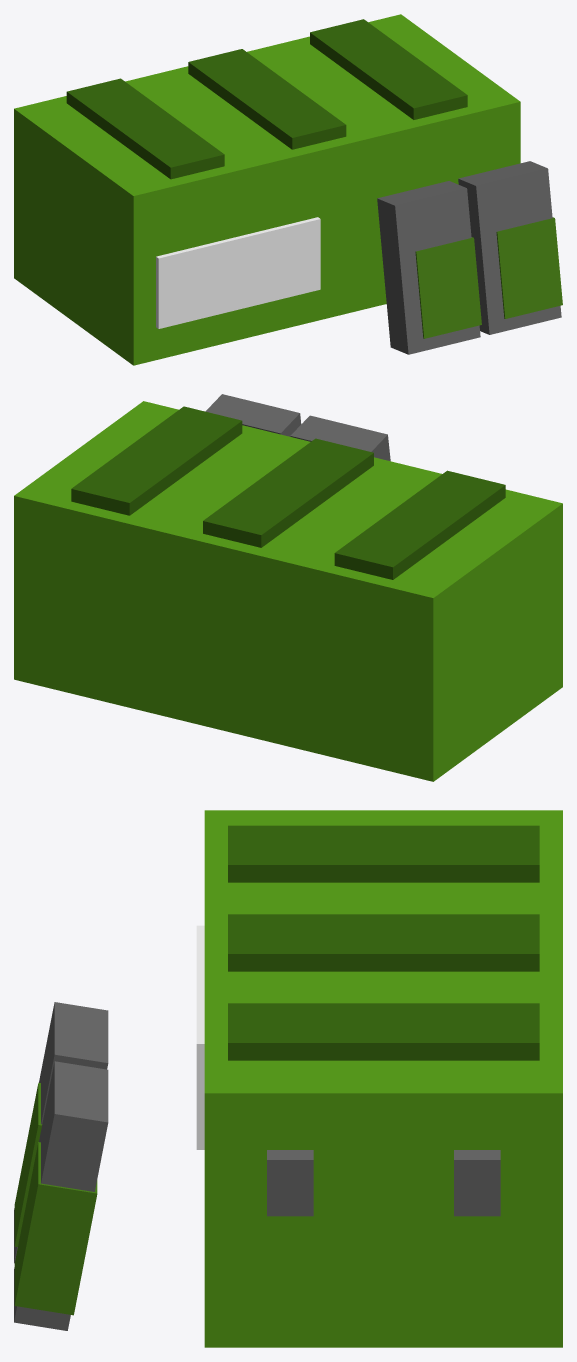
Rendered from ce_ammo_gae_chrifle_fmj_c.obj.
3 views of the same model, one above another, from view 1: azimuth 30°, elevation 25°; view 2: azimuth 150°, elevation 25°; view 3: azimuth 270°, elevation 25° (orthographic). The views are drawn at different scales.
Parts seen in each view (by area): view 1: ce_ammo_gae_chrifle_fmj_c_0, ce_ammo_gae_chrifle_fmj_c_4, ce_ammo_gae_chrifle_fmj_c_7, ce_ammo_gae_chrifle_fmj_c_9, ce_ammo_gae_chrifle_fmj_c_1, ce_ammo_gae_chrifle_fmj_c_2, ce_ammo_gae_chrifle_fmj_c_3, ce_ammo_gae_chrifle_fmj_c_8, ce_ammo_gae_chrifle_fmj_c_10; view 2: ce_ammo_gae_chrifle_fmj_c_0, ce_ammo_gae_chrifle_fmj_c_3, ce_ammo_gae_chrifle_fmj_c_1, ce_ammo_gae_chrifle_fmj_c_2, ce_ammo_gae_chrifle_fmj_c_7, ce_ammo_gae_chrifle_fmj_c_9; view 3: ce_ammo_gae_chrifle_fmj_c_0, ce_ammo_gae_chrifle_fmj_c_1, ce_ammo_gae_chrifle_fmj_c_2, ce_ammo_gae_chrifle_fmj_c_3, ce_ammo_gae_chrifle_fmj_c_10, ce_ammo_gae_chrifle_fmj_c_9, ce_ammo_gae_chrifle_fmj_c_7, ce_ammo_gae_chrifle_fmj_c_5, ce_ammo_gae_chrifle_fmj_c_6, ce_ammo_gae_chrifle_fmj_c_4, ce_ammo_gae_chrifle_fmj_c_8.
Boxes of the visible parts, x1,y1,x2,y2 form: ce_ammo_gae_chrifle_fmj_c_0: (14, 14, 520, 365); ce_ammo_gae_chrifle_fmj_c_4: (156, 217, 320, 328); ce_ammo_gae_chrifle_fmj_c_7: (377, 181, 480, 354); ce_ammo_gae_chrifle_fmj_c_9: (458, 161, 561, 334); ce_ammo_gae_chrifle_fmj_c_1: (66, 78, 224, 179); ce_ammo_gae_chrifle_fmj_c_2: (188, 49, 346, 149); ce_ammo_gae_chrifle_fmj_c_3: (310, 19, 467, 119); ce_ammo_gae_chrifle_fmj_c_8: (415, 237, 481, 338); ce_ammo_gae_chrifle_fmj_c_10: (496, 217, 562, 318); ce_ammo_gae_chrifle_fmj_c_0: (14, 401, 562, 781); ce_ammo_gae_chrifle_fmj_c_3: (71, 406, 242, 515); ce_ammo_gae_chrifle_fmj_c_1: (334, 470, 505, 579); ce_ammo_gae_chrifle_fmj_c_2: (203, 438, 373, 547); ce_ammo_gae_chrifle_fmj_c_7: (290, 415, 390, 461); ce_ammo_gae_chrifle_fmj_c_9: (205, 394, 301, 436); ce_ammo_gae_chrifle_fmj_c_0: (204, 810, 562, 1347); ce_ammo_gae_chrifle_fmj_c_1: (228, 825, 539, 882); ce_ammo_gae_chrifle_fmj_c_2: (228, 914, 539, 971); ce_ammo_gae_chrifle_fmj_c_3: (228, 1003, 539, 1060); ce_ammo_gae_chrifle_fmj_c_10: (14, 1142, 97, 1315); ce_ammo_gae_chrifle_fmj_c_9: (14, 1061, 108, 1330); ce_ammo_gae_chrifle_fmj_c_7: (14, 1002, 108, 1263); ce_ammo_gae_chrifle_fmj_c_5: (267, 1150, 313, 1216); ce_ammo_gae_chrifle_fmj_c_6: (454, 1150, 500, 1216); ce_ammo_gae_chrifle_fmj_c_4: (196, 925, 204, 1149); ce_ammo_gae_chrifle_fmj_c_8: (14, 1082, 42, 1246).
Bounding box in the file's own units: 0.89 × 0.385 × 0.7045.
